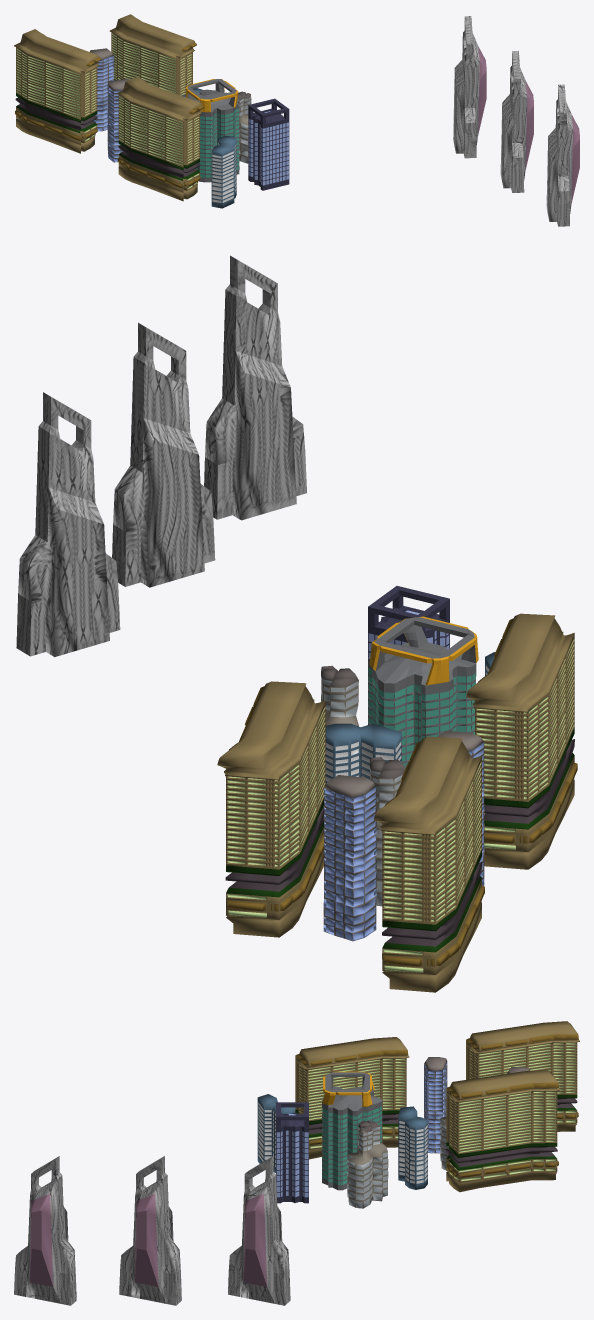
The model's file is buildingGroups.fbx.
The picture shows the model from 3 angles, top to bottom: view 1: azimuth 30°, elevation 25°; view 2: azimuth 150°, elevation 25°; view 3: azimuth 270°, elevation 25°; orthographic projection. The views are drawn at different scales.
Visible parts, largest first — view 1: CoreBuilding, building2.001, building2.002, building2, optimizeBuilding1, optimizeBuilding4, building4.001, building6, building6.001, building9.001; view 2: CoreBuilding, building2.002, building2, building2.001, optimizeBuilding4, building6, building4, optimizeBuilding1, building9.001, building9, building6.001; view 3: CoreBuilding, building2, building2.001, building2.002, optimizeBuilding4, optimizeBuilding1, building9.001, building4, building6.001, building4.001.
Part boxes in pixels (left/top/right/bottom): CoreBuilding: left=453, top=16, right=579, bottom=226; building2.001: left=116, top=77, right=204, bottom=201; building2.002: left=14, top=29, right=101, bottom=153; building2: left=109, top=14, right=196, bottom=95; optimizeBuilding1: left=248, top=98, right=289, bottom=190; optimizeBuilding4: left=186, top=79, right=239, bottom=182; building4.001: left=211, top=135, right=236, bottom=208; building6: left=89, top=48, right=114, bottom=131; building6.001: left=107, top=79, right=126, bottom=162; building9.001: left=237, top=91, right=251, bottom=163; CoreBuilding: left=16, top=255, right=306, bottom=657; building2.002: left=373, top=736, right=484, bottom=992; building2: left=217, top=681, right=325, bottom=937; building2.001: left=466, top=613, right=577, bottom=869; optimizeBuilding4: left=368, top=616, right=478, bottom=767; building6: left=323, top=775, right=376, bottom=941; building4: left=323, top=723, right=401, bottom=820; optimizeBuilding1: left=368, top=586, right=449, bottom=657; building9.001: left=321, top=665, right=358, bottom=726; building9: left=369, top=757, right=405, bottom=906; building6.001: left=437, top=730, right=484, bottom=885; CoreBuilding: left=14, top=1156, right=290, bottom=1305; building2: left=446, top=1069, right=559, bottom=1192; building2.001: left=295, top=1037, right=409, bottom=1159; building2.002: left=466, top=1021, right=579, bottom=1131; optimizeBuilding4: left=322, top=1071, right=382, bottom=1190; optimizeBuilding1: left=276, top=1102, right=308, bottom=1203; building9.001: left=347, top=1120, right=388, bottom=1208; building4: left=398, top=1106, right=427, bottom=1189; building6.001: left=424, top=1057, right=447, bottom=1153; building4.001: left=257, top=1094, right=295, bottom=1172.
Size of the model in its own units: 76.88 by 27.78 by 98.2.
